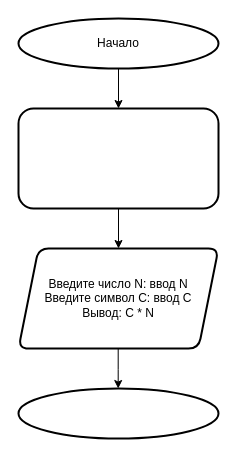
Some shapes in this 236 by 456 pixel diagram are drawn without their labels. The box of each missing label's shape, as (x1, y1, x2, y2) in pixels:
N =int(input("Введите число N: ")) C = input("Введите символ C:") print(C * N): (17, 107, 219, 209)
Конец: (17, 387, 219, 439)
